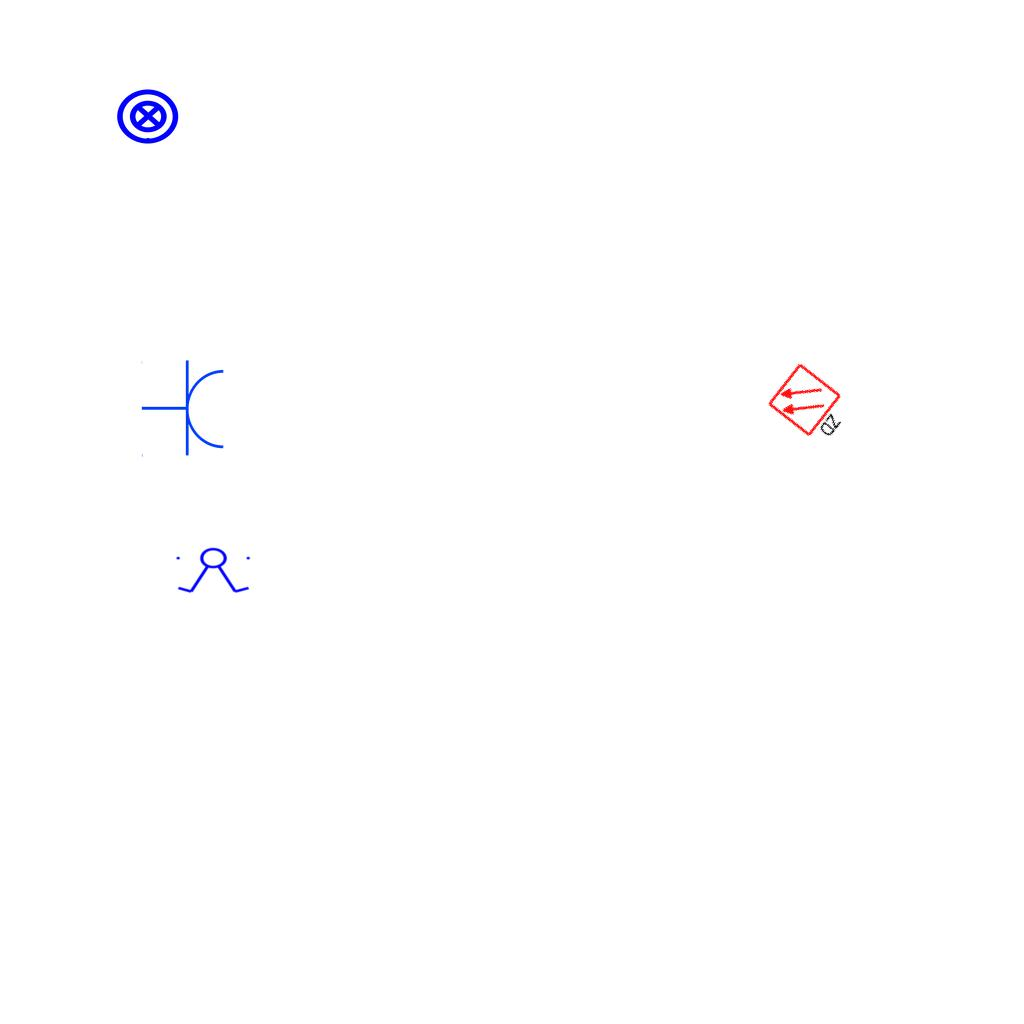Schukosteckdose_einfach: (141, 359, 228, 459)
Serienschalter: (172, 547, 256, 595)
Taster_beleuchtet: (115, 83, 181, 149)
ZD_Melder_in_Zwischendecke_mit_Revisionsoeffnung_mind_40_x_40_cm: (765, 359, 860, 451)
